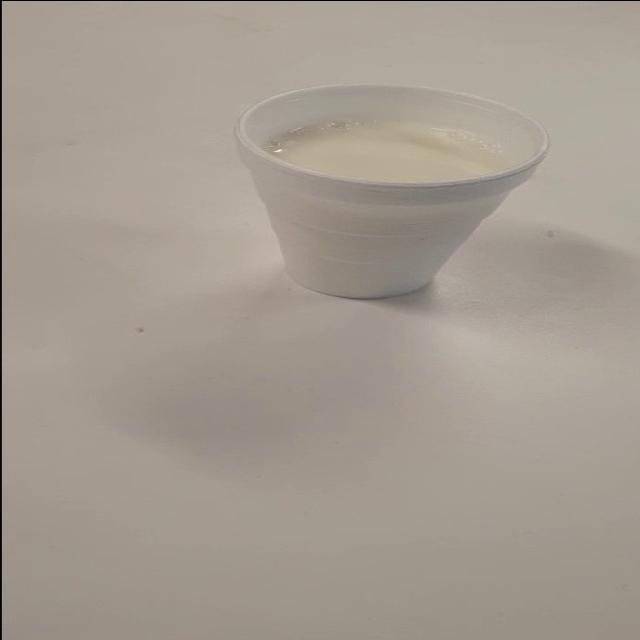Milk: (229, 65, 614, 312)
